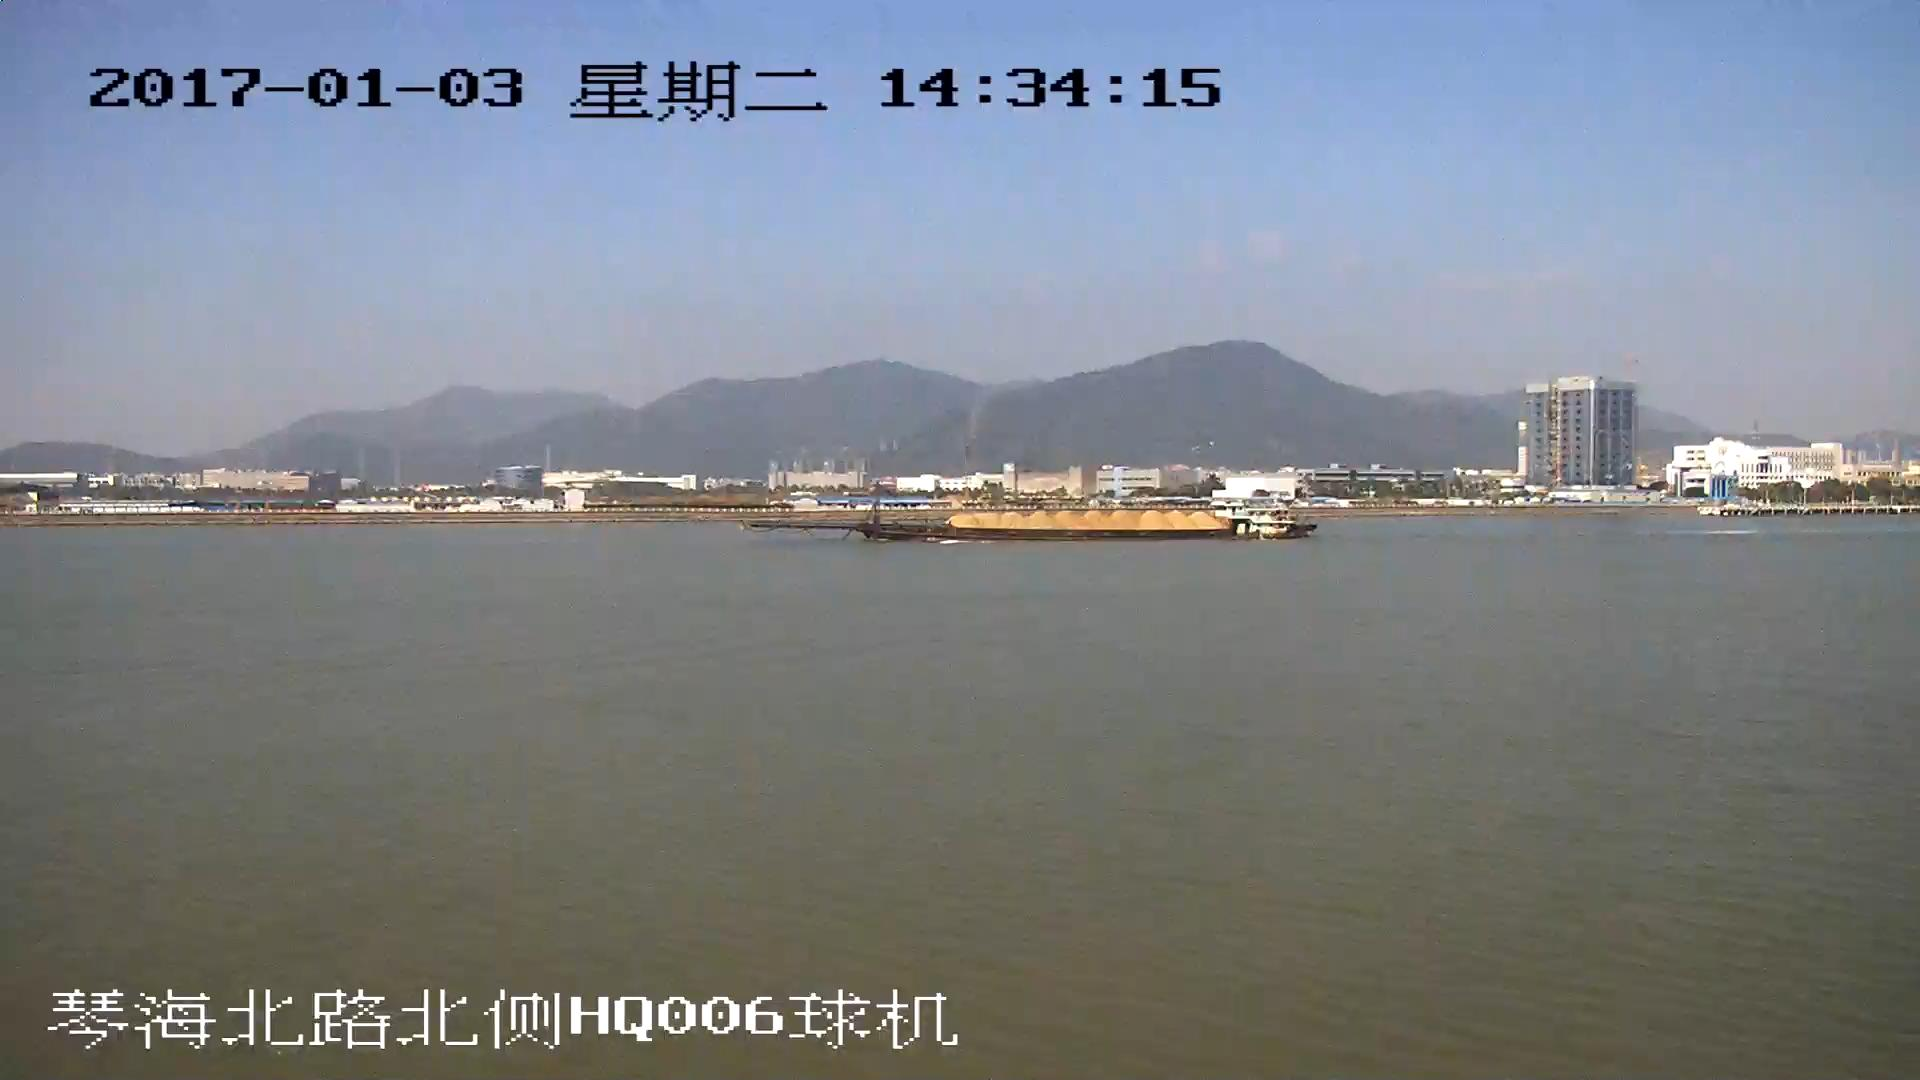ore carrier: (748, 491, 1315, 540)
